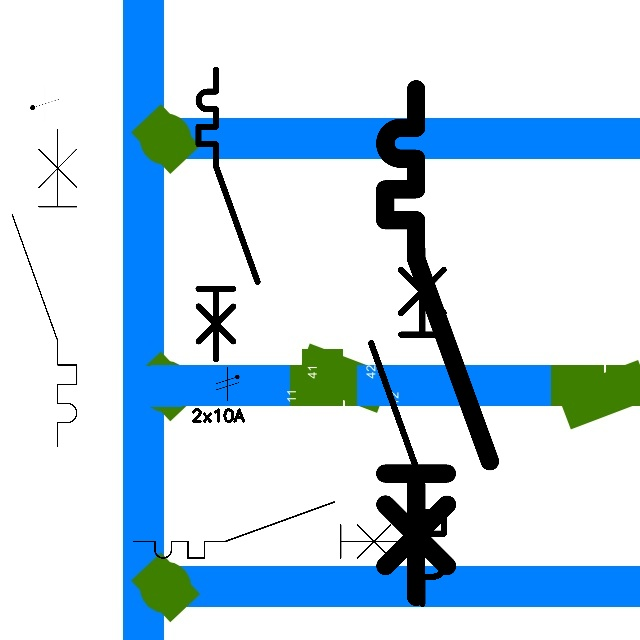interruptor_termomagnetico: (372, 76, 502, 610), (362, 239, 453, 613), (4, 121, 85, 455), (191, 62, 265, 366), (127, 495, 414, 565)
